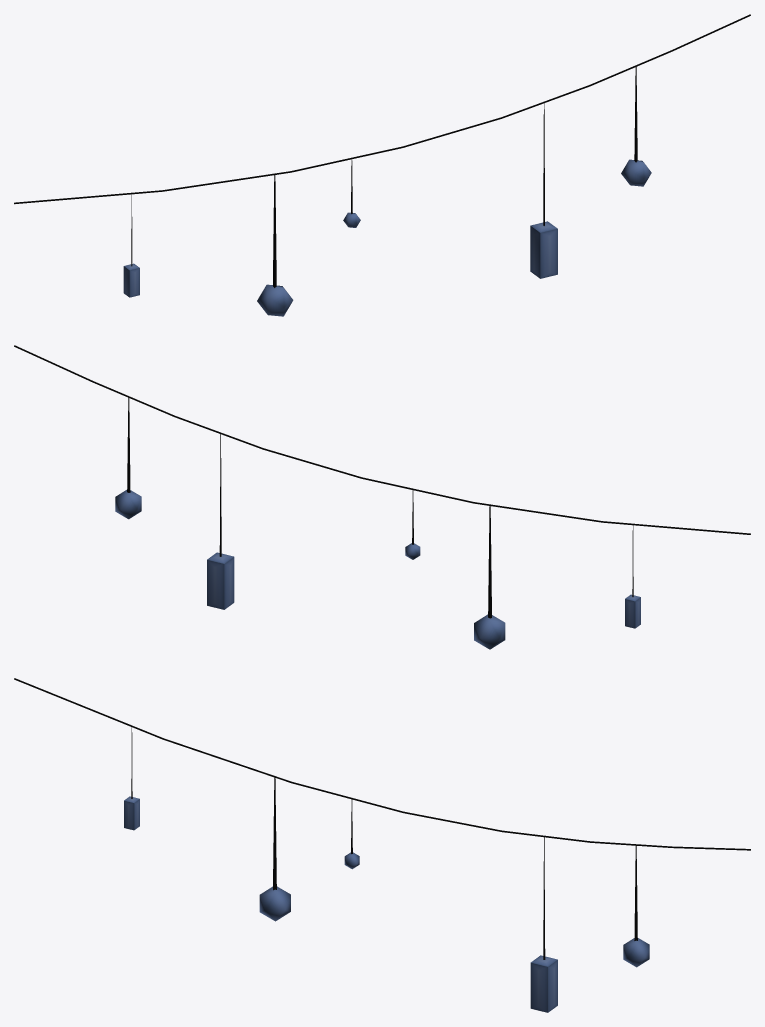
File: Garland_B_5_SpherifyQuadLamps_Blue.fbx
3 renders of one model, top to bottom at view 1: azimuth 30°, elevation 25°; view 2: azimuth 150°, elevation 25°; view 3: azimuth 330°, elevation 25°, orthographic.
Parts seen in each view (by area): view 1: Garland_B_5_SpherifyQuadLamps_Blue; view 2: Garland_B_5_SpherifyQuadLamps_Blue; view 3: Garland_B_5_SpherifyQuadLamps_Blue.
Part boxes in pixels (x1,y1,x2,y2): Garland_B_5_SpherifyQuadLamps_Blue: (14, 14, 750, 316); Garland_B_5_SpherifyQuadLamps_Blue: (14, 345, 750, 649); Garland_B_5_SpherifyQuadLamps_Blue: (14, 678, 750, 1012).
Bounding box in the file's own units: 676 × 184 × 29.13.
